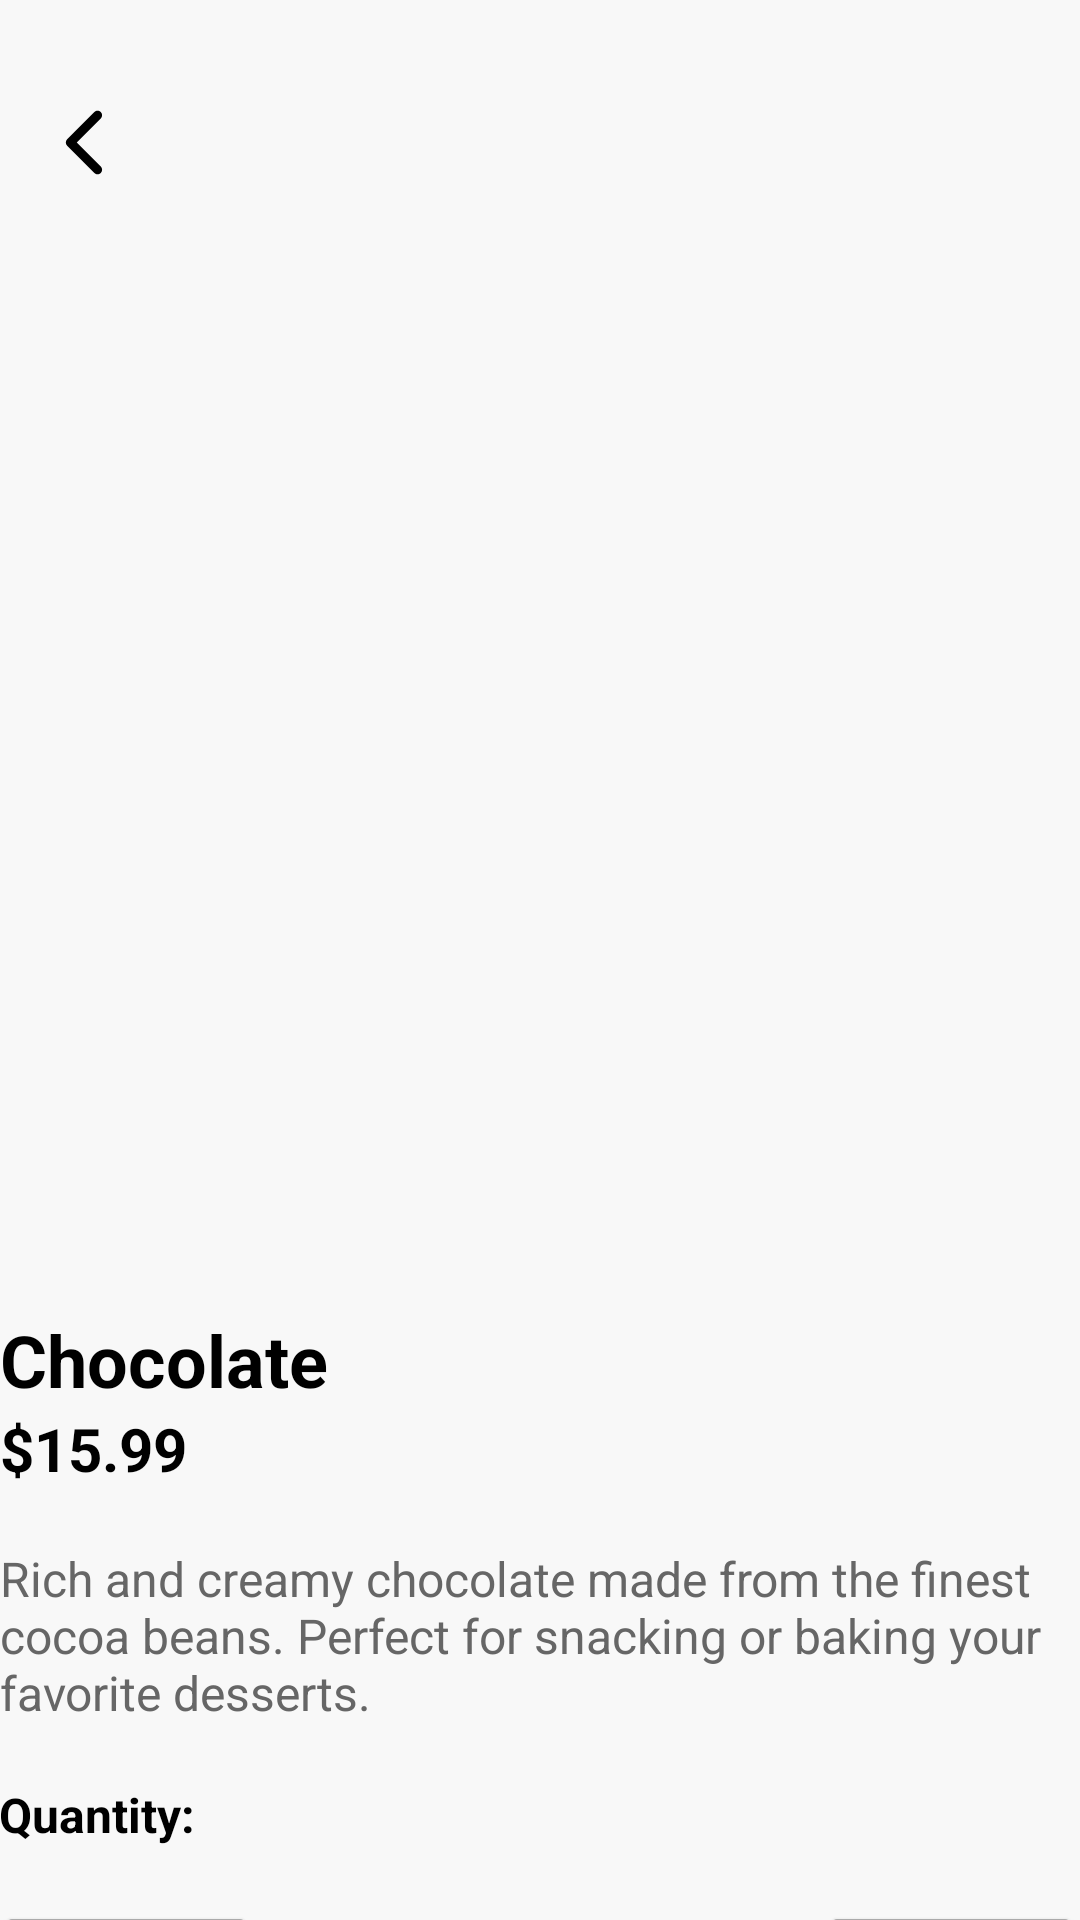

Locate icon controls on the screen. Image size 1080×1920, boxes as (x1, y1, x2, y2).
chevron left: (65, 110, 102, 175)
